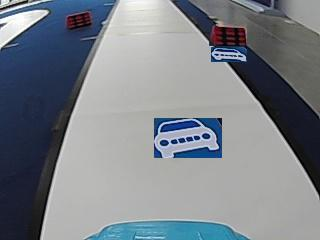bomb: (66, 9, 92, 28)
